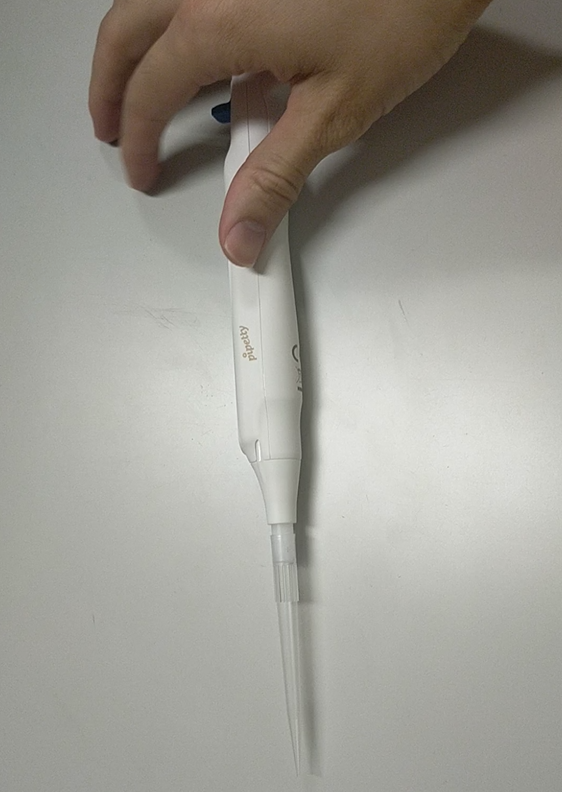pipette: (198, 61, 321, 532)
tip: (257, 515, 327, 787)
